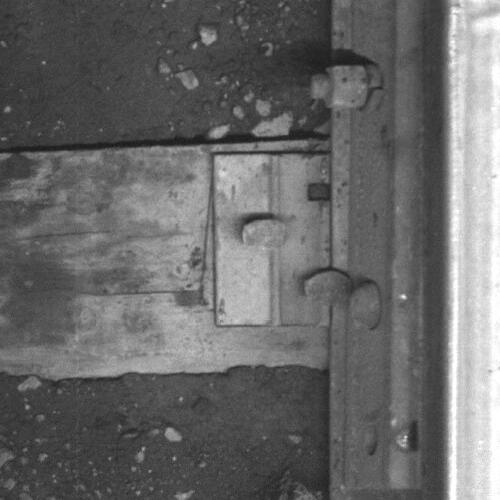do: (212, 152, 352, 325)
fp_end: (345, 482, 425, 500)
hole_do: (297, 173, 340, 210)
rail: (447, 1, 500, 500)
tie_wood: (1, 152, 329, 363)
